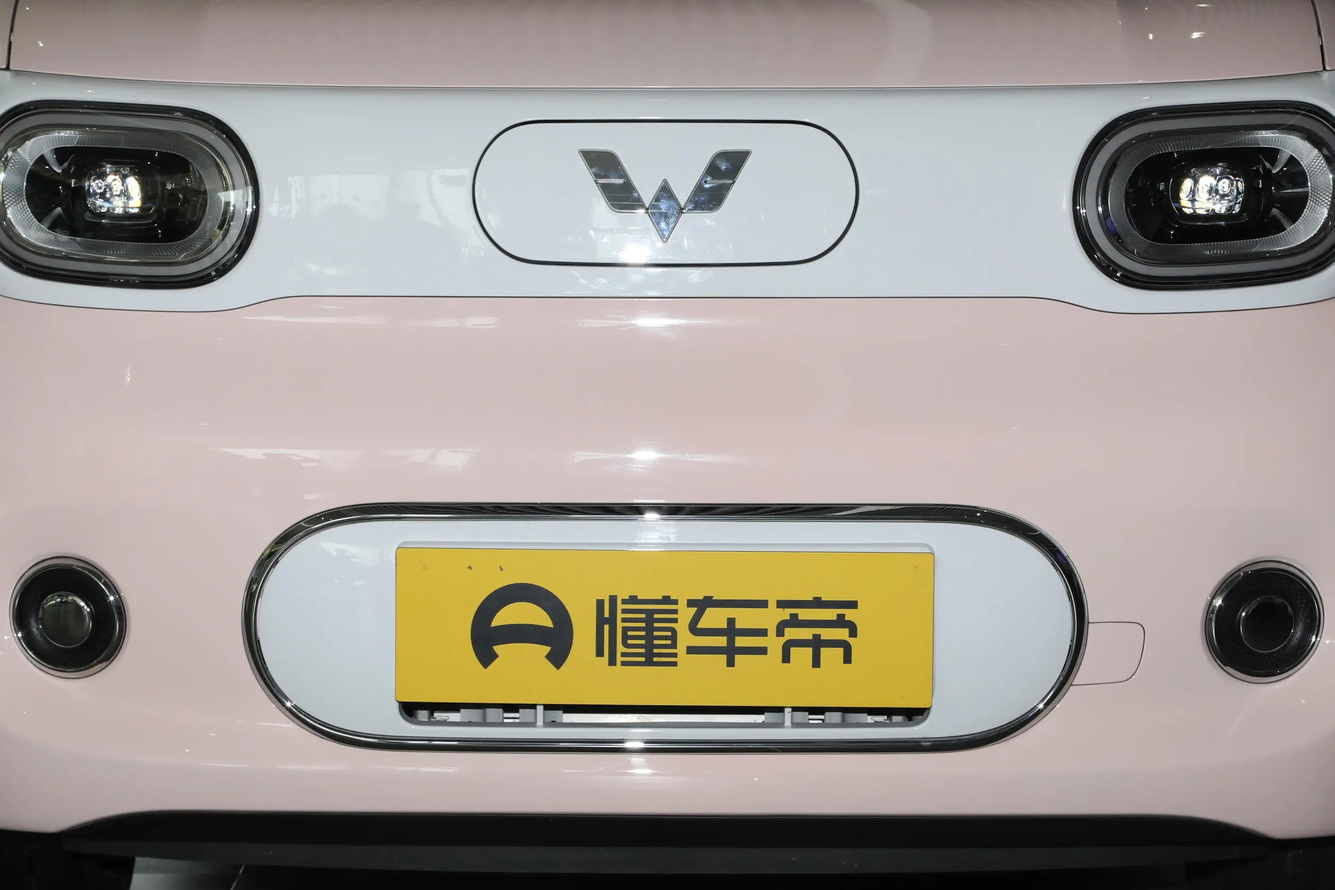SGMW: (579, 149, 751, 242)
